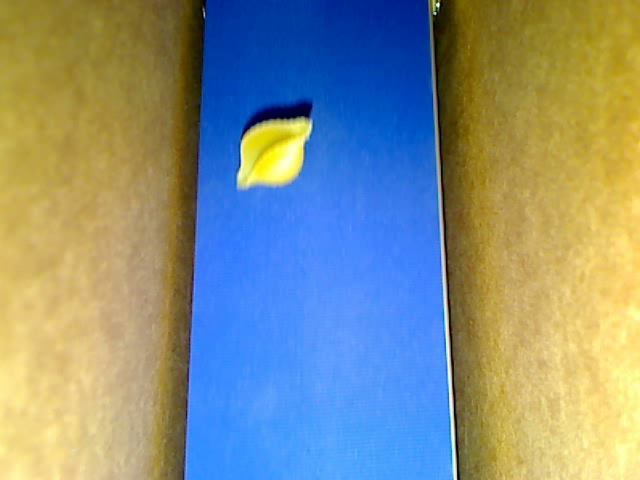shell: (236, 116, 312, 190)
